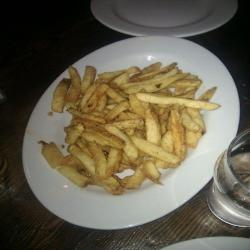fries: (47, 62, 215, 196)
